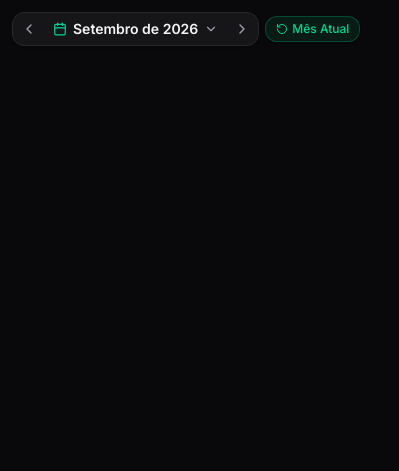
Navegação de Períodos e Filtro de Datas (GlobalDateFilter) › abre o popover e permite selecionar mês pelo grid de 12 meses em 1 clique
What coordinates should you click on to do the following:
click the button titled "Selecionar mês ou personalizar"
I would click on:
 (136, 29)
Its box is [43, 15, 228, 43].
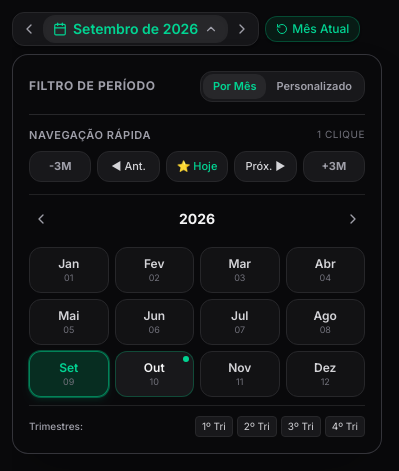
Check: the text "Navegação Rápida" is shown, box [29, 126, 151, 143]
Check: the text "-3M" is shown, box [49, 158, 71, 174]
Check: the text "+3M" is shown, box [321, 158, 346, 174]
Clicar em "Dez" (Dezembro) no grid
What coordinates should you click on to do the following:
click the button titled "Dezembro de 2026"
I would click on:
 (325, 374)
Its box is [286, 350, 365, 396].
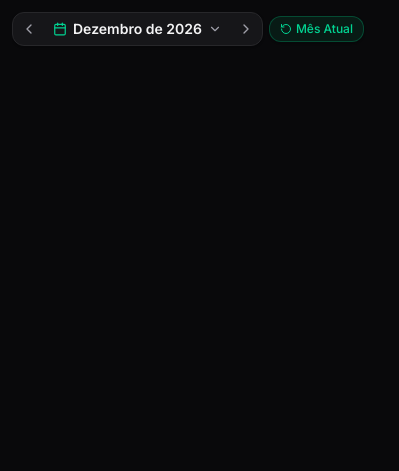
Check: the text "Navegação Rápida" is gone
Check: the button titled "Selecionar mês ou personalizar" reads "Dezembro de 2026", box [43, 15, 232, 43]
